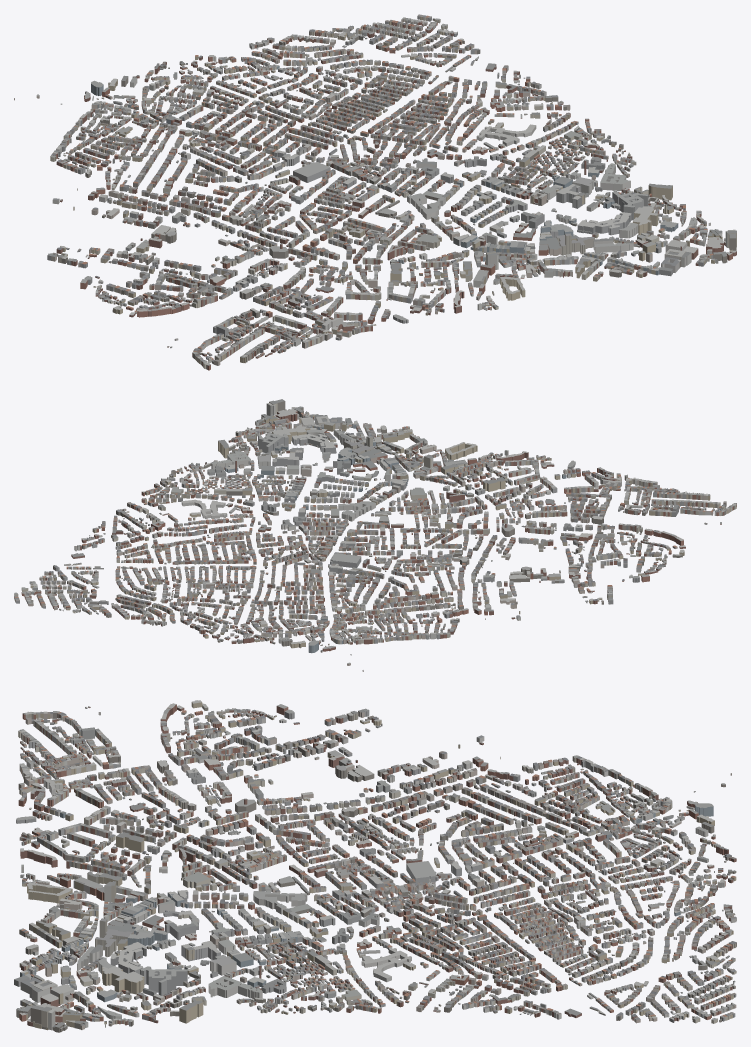
Rendered from buildings_b0_1_2.glb.
The picture shows the model from 3 angles, top to bottom: view 1: azimuth 30°, elevation 25°; view 2: azimuth 150°, elevation 25°; view 3: azimuth 270°, elevation 25°; orthographic projection. The views are drawn at different scales.
Visible parts, largest first — view 1: t07_08_buildings_b0, t06_10_buildings_b0, t06_08_buildings_b0, t06_11_buildings_b0, t05_10_buildings_b0, t07_09_buildings_b0, t06_09_buildings_b0, t07_11_buildings_b0, t05_09_buildings_b0, t05_08_buildings_b0, t07_10_buildings_b0, t05_11_buildings_b0 (+4 smaller); view 2: t06_08_buildings_b0, t06_09_buildings_b0, t05_08_buildings_b0, t07_10_buildings_b0, t07_09_buildings_b0, t06_10_buildings_b0, t05_10_buildings_b0, t07_08_buildings_b0, t06_11_buildings_b0, t05_09_buildings_b0, t07_11_buildings_b0, t04_08_buildings_b0 (+3 smaller); view 3: t07_08_buildings_b0, t06_10_buildings_b0, t06_08_buildings_b0, t07_09_buildings_b0, t05_10_buildings_b0, t05_08_buildings_b0, t06_11_buildings_b0, t06_09_buildings_b0, t07_10_buildings_b0, t05_09_buildings_b0, t07_11_buildings_b0, t05_11_buildings_b0 (+4 smaller).
Part boxes in pixels (x1=…): t07_08_buildings_b0: x1=532, y1=183, x2=736, y2=277; t06_10_buildings_b0: x1=233, y1=101, x2=447, y2=193; t06_08_buildings_b0: x1=396, y1=211, x2=603, y2=310; t06_11_buildings_b0: x1=159, y1=34, x2=369, y2=130; t05_10_buildings_b0: x1=93, y1=128, x2=313, y2=223; t07_09_buildings_b0: x1=454, y1=121, x2=636, y2=208; t06_09_buildings_b0: x1=319, y1=153, x2=527, y2=248; t07_11_buildings_b0: x1=294, y1=14, x2=508, y2=102; t05_09_buildings_b0: x1=183, y1=191, x2=387, y2=278; t05_08_buildings_b0: x1=263, y1=245, x2=464, y2=340; t07_10_buildings_b0: x1=371, y1=67, x2=589, y2=152; t05_11_buildings_b0: x1=36, y1=63, x2=227, y2=162; t06_08_buildings_b0: x1=333, y1=426, x2=508, y2=501; t06_09_buildings_b0: x1=265, y1=472, x2=444, y2=550; t05_08_buildings_b0: x1=446, y1=451, x2=628, y2=522; t07_10_buildings_b0: x1=79, y1=491, x2=255, y2=573; t07_09_buildings_b0: x1=145, y1=450, x2=311, y2=518; t06_10_buildings_b0: x1=199, y1=521, x2=378, y2=600; t05_10_buildings_b0: x1=312, y1=550, x2=494, y2=625; t07_08_buildings_b0: x1=218, y1=399, x2=386, y2=471; t06_11_buildings_b0: x1=124, y1=574, x2=307, y2=643; t05_09_buildings_b0: x1=381, y1=501, x2=556, y2=577; t07_11_buildings_b0: x1=14, y1=545, x2=194, y2=618; t04_08_buildings_b0: x1=563, y1=477, x2=736, y2=556; t07_08_buildings_b0: x1=14, y1=926, x2=206, y2=1032; t06_10_buildings_b0: x1=376, y1=855, x2=558, y2=941; t06_08_buildings_b0: x1=19, y1=854, x2=210, y2=957; t07_09_buildings_b0: x1=181, y1=928, x2=380, y2=1014; t05_10_buildings_b0: x1=374, y1=778, x2=558, y2=867; t05_08_buildings_b0: x1=16, y1=778, x2=200, y2=867; t06_11_buildings_b0: x1=554, y1=852, x2=736, y2=941; t06_09_buildings_b0: x1=198, y1=857, x2=383, y2=942; t07_10_buildings_b0: x1=361, y1=932, x2=557, y2=1017; t05_09_buildings_b0: x1=197, y1=781, x2=382, y2=865; t07_11_buildings_b0: x1=554, y1=930, x2=736, y2=1023; t05_11_buildings_b0: x1=554, y1=771, x2=728, y2=860.
Size of the model in its own units: 2023 by 113 by 2027.
